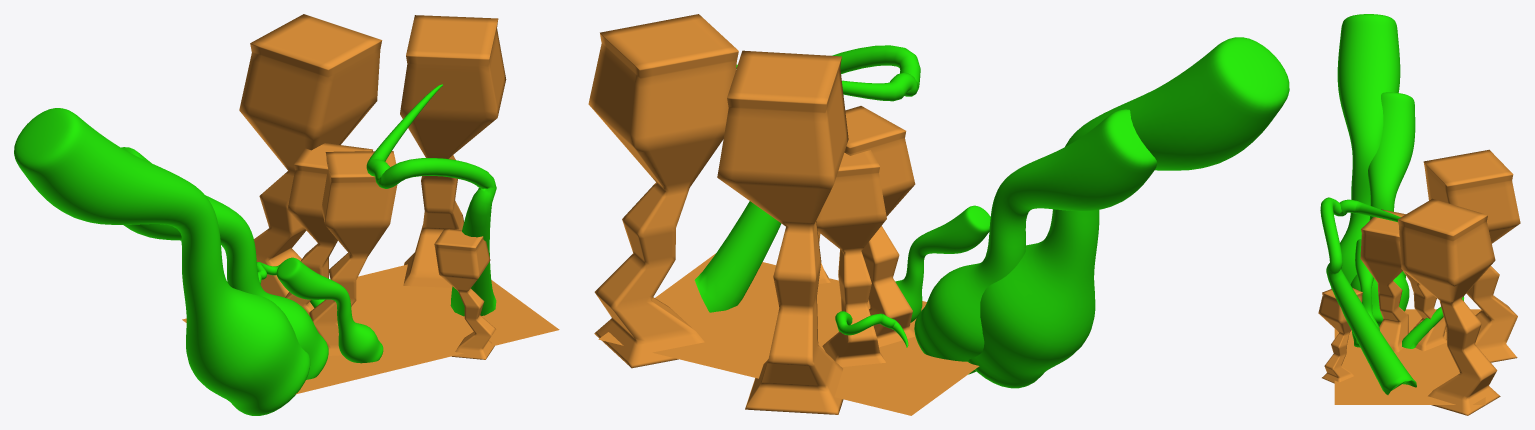
Rendered from Floor_Platforms_000.fbx.
The picture shows the model from 3 angles, left to right: view 1: azimuth 30°, elevation 25°; view 2: azimuth 150°, elevation 25°; view 3: azimuth 270°, elevation 25°; orthographic projection. The views are drawn at different scales.
Visible parts, largest first — view 1: Floor.Platforms|cliff|Dupli|2, Floor.Platforms|cliff.002|Dupli|10, Floor.Platforms|cliff.002|Dupli|9, Floor.Platforms, Floor.Platforms|cliff.001|Dupli|5, Floor.Platforms|BezierCurve.Trunk.001|Dupli|6, Floor.Platforms|cliff|Dupli|4, Floor.Platforms|cliff.001|Dupli|1, Floor.Platforms|cliff.002|Dupli|8, Floor.Platforms|cliff|Dupli|3; view 2: Floor.Platforms|cliff|Dupli|2, Floor.Platforms|cliff.002|Dupli|9, Floor.Platforms|cliff.002|Dupli|10, Floor.Platforms|cliff|Dupli|4, Floor.Platforms, Floor.Platforms|cliff.002|Dupli|8, Floor.Platforms|BezierCurve.Trunk.001|Dupli|6, Floor.Platforms|cliff.001|Dupli|5, Floor.Platforms|cliff|Dupli|3, Floor.Platforms|BezierCurve.Trunk.002|Dupli|7; view 3: Floor.Platforms|cliff.002|Dupli|9, Floor.Platforms|cliff|Dupli|2, Floor.Platforms|cliff.002|Dupli|10, Floor.Platforms, Floor.Platforms|BezierCurve.Trunk.001|Dupli|6, Floor.Platforms|cliff|Dupli|4, Floor.Platforms|cliff.001|Dupli|5, Floor.Platforms|cliff.001|Dupli|1, Floor.Platforms|cliff.002|Dupli|8, Floor.Platforms|cliff|Dupli|3, Floor.Platforms|BezierCurve.Trunk.002|Dupli|7.
Part boxes in pixels (x1,y1,x2,y2): Floor.Platforms|cliff|Dupli|2: (14,108,310,415); Floor.Platforms|cliff.002|Dupli|10: (239,14,382,297); Floor.Platforms|cliff.002|Dupli|9: (400,15,506,287); Floor.Platforms: (182,264,559,394); Floor.Platforms|cliff.001|Dupli|5: (309,151,397,355); Floor.Platforms|BezierCurve.Trunk.001|Dupli|6: (366,84,496,316); Floor.Platforms|cliff|Dupli|4: (121,147,328,379); Floor.Platforms|cliff.001|Dupli|1: (434,228,495,359); Floor.Platforms|cliff.002|Dupli|8: (285,143,372,315); Floor.Platforms|cliff|Dupli|3: (276,257,383,363); Floor.Platforms|cliff|Dupli|2: (967,37,1289,388); Floor.Platforms|cliff.002|Dupli|9: (588,14,738,368); Floor.Platforms|cliff.002|Dupli|10: (717,50,848,414); Floor.Platforms|cliff|Dupli|4: (914,109,1157,374); Floor.Platforms: (598,253,979,415); Floor.Platforms|cliff.002|Dupli|8: (816,150,886,366); Floor.Platforms|BezierCurve.Trunk.001|Dupli|6: (694,45,920,312); Floor.Platforms|cliff.001|Dupli|5: (844,106,915,347); Floor.Platforms|cliff|Dupli|3: (895,205,990,322); Floor.Platforms|BezierCurve.Trunk.002|Dupli|7: (835,311,908,347); Floor.Platforms|cliff.002|Dupli|9: (1397,198,1500,415); Floor.Platforms|cliff|Dupli|2: (1331,14,1405,288); Floor.Platforms|cliff.002|Dupli|10: (1423,149,1520,362); Floor.Platforms: (1334,309,1485,404); Floor.Platforms|BezierCurve.Trunk.001|Dupli|6: (1320,197,1416,394); Floor.Platforms|cliff|Dupli|4: (1350,92,1415,326); Floor.Platforms|cliff.001|Dupli|5: (1360,209,1408,352); Floor.Platforms|cliff.001|Dupli|1: (1318,288,1362,383); Floor.Platforms|cliff.002|Dupli|8: (1403,270,1446,351); Floor.Platforms|cliff|Dupli|3: (1352,239,1379,347); Floor.Platforms|BezierCurve.Trunk.002|Dupli|7: (1402,296,1463,348).
Bounding box in the file's own units: 1198 × 718 × 536.
